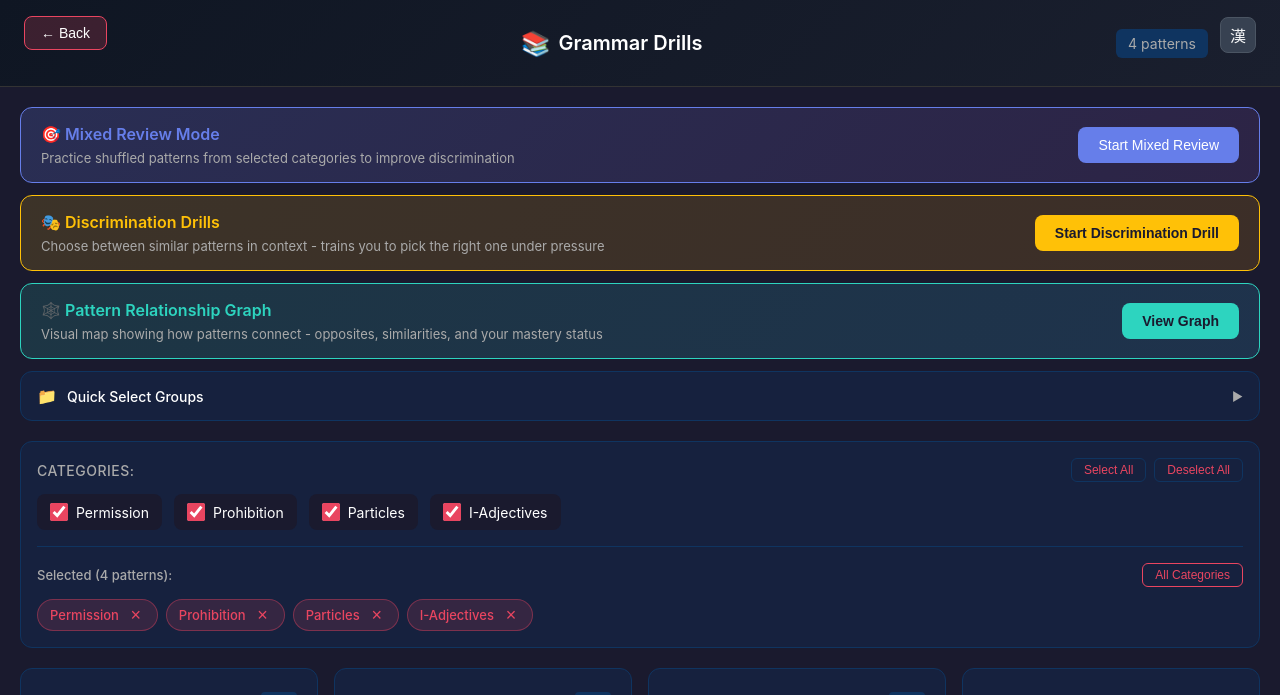
Test: GrammarMode Category Filter › should select all categories when Select All is clicked
Check: the button "Select All" is shown, box [1071, 458, 1146, 482]
# First deselect all
Step 1. Click the button "Deselect All" → (1199, 470), box [1154, 458, 1243, 482]
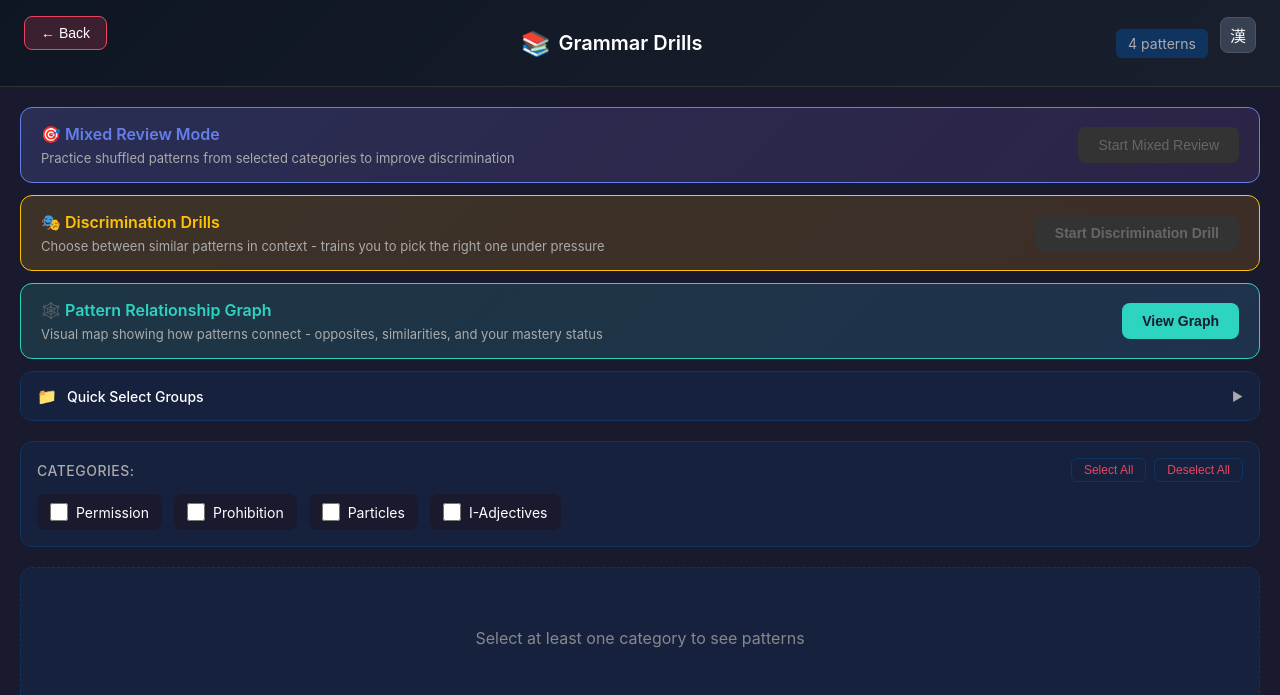
Check: the checkbox labelled "Permission" is not checked, box [50, 503, 68, 521]
# Then select all
Step 2. Click the button "Select All" → (1109, 470), box [1071, 458, 1146, 482]
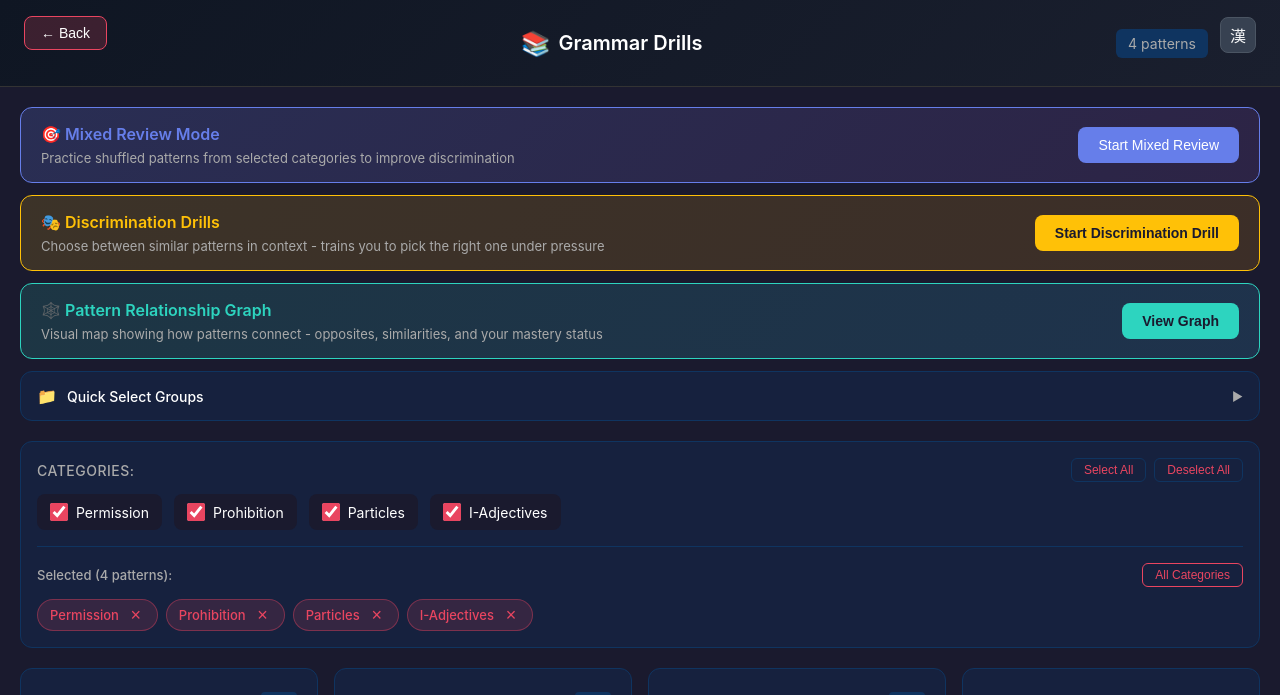
Check: the checkbox labelled "Permission" is checked, box [50, 503, 68, 521]
Check: the checkbox labelled "Prohibition" is checked, box [187, 503, 205, 521]
Check: the checkbox labelled "Particles" is checked, box [322, 503, 340, 521]
